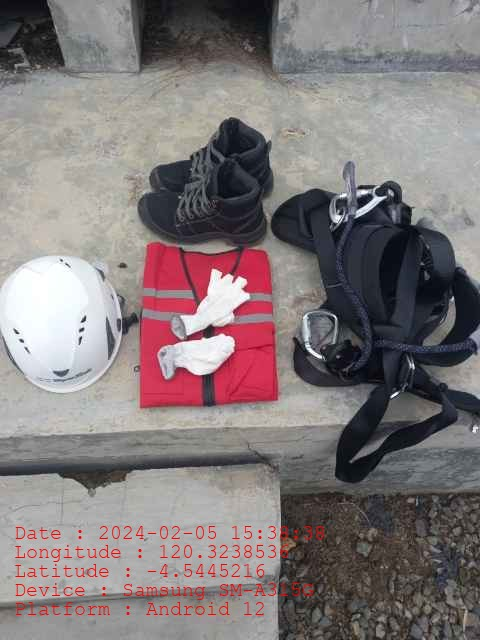HELM: (1, 254, 123, 394)
SARUNG_TANGAN: (173, 269, 248, 331)
SEPATU: (137, 116, 272, 246)
